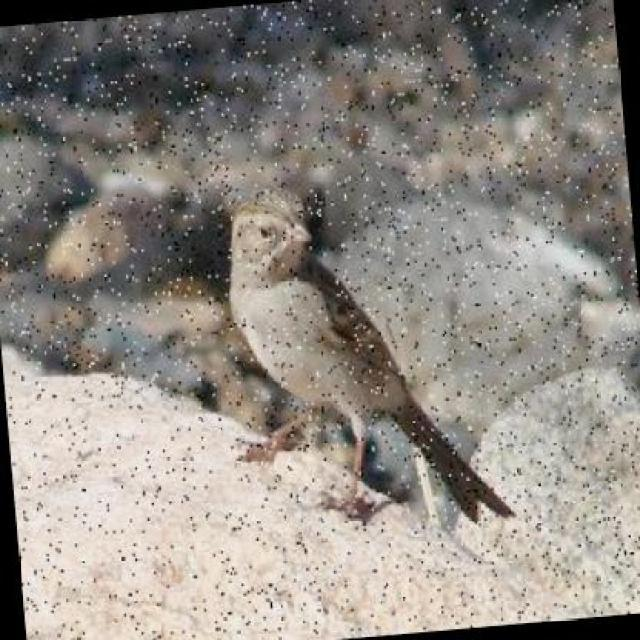Bird: (221, 184, 508, 536)
